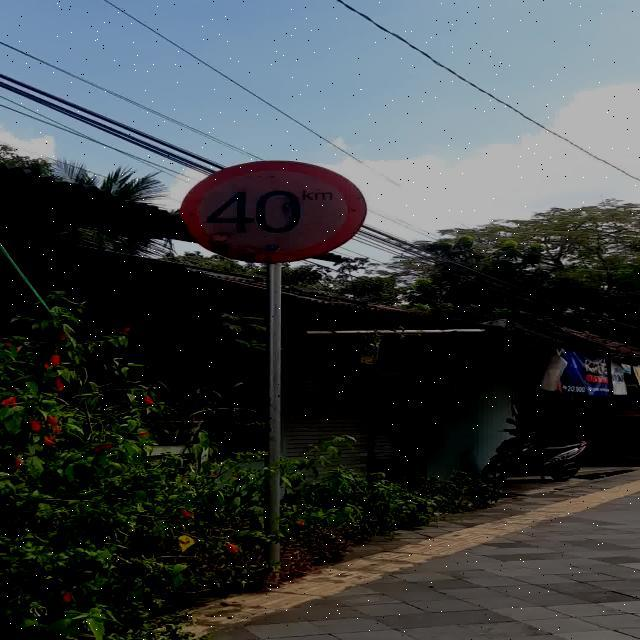Kecepatan Maks. 40 km: (181, 160, 367, 262)
